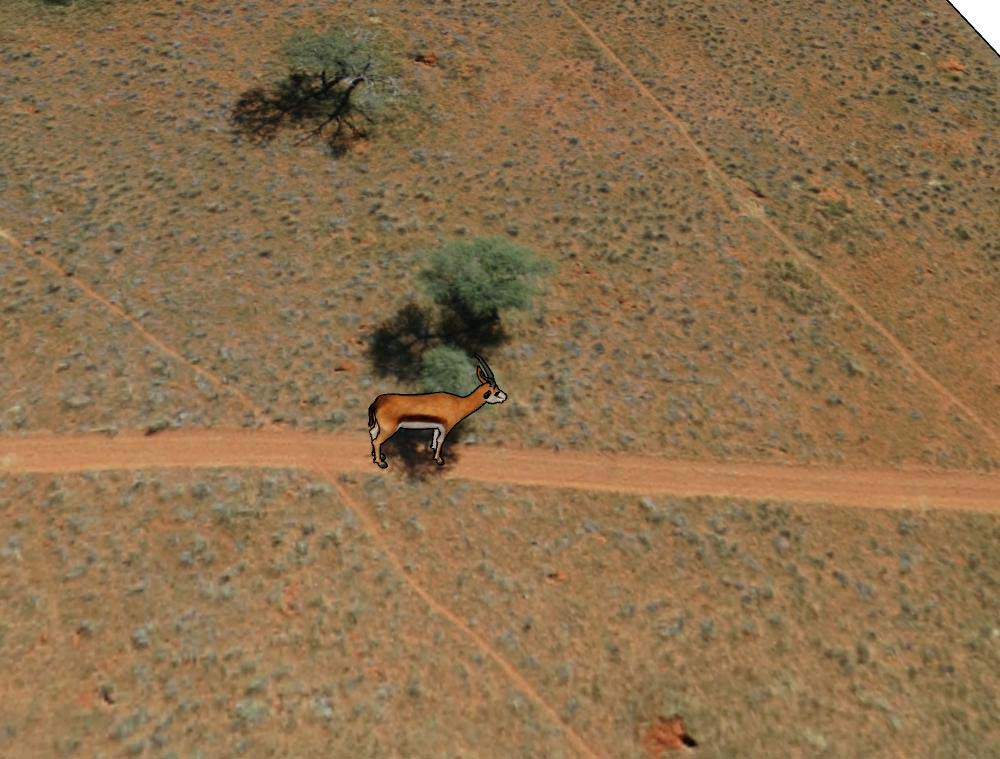springbok: (364, 351, 507, 473)
